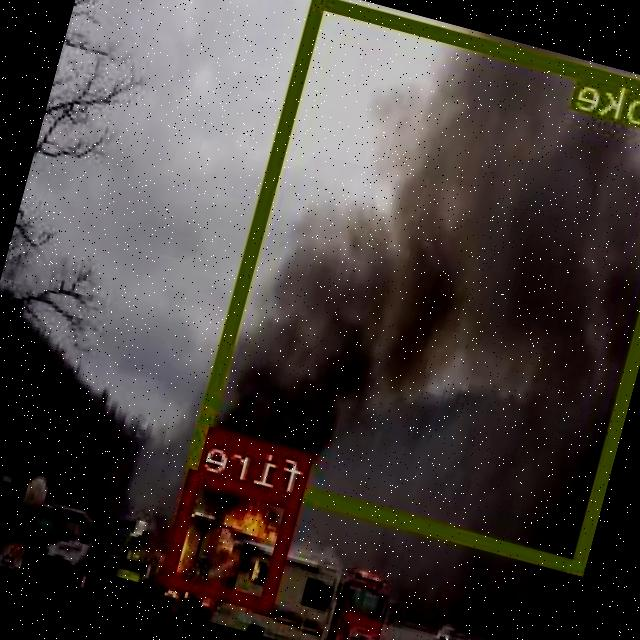fire: (162, 468, 304, 610)
smoke: (188, 0, 640, 573)
